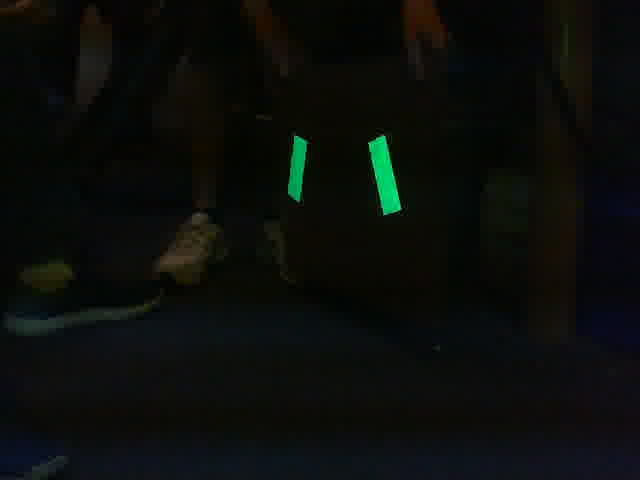target: (285, 134, 404, 215)
